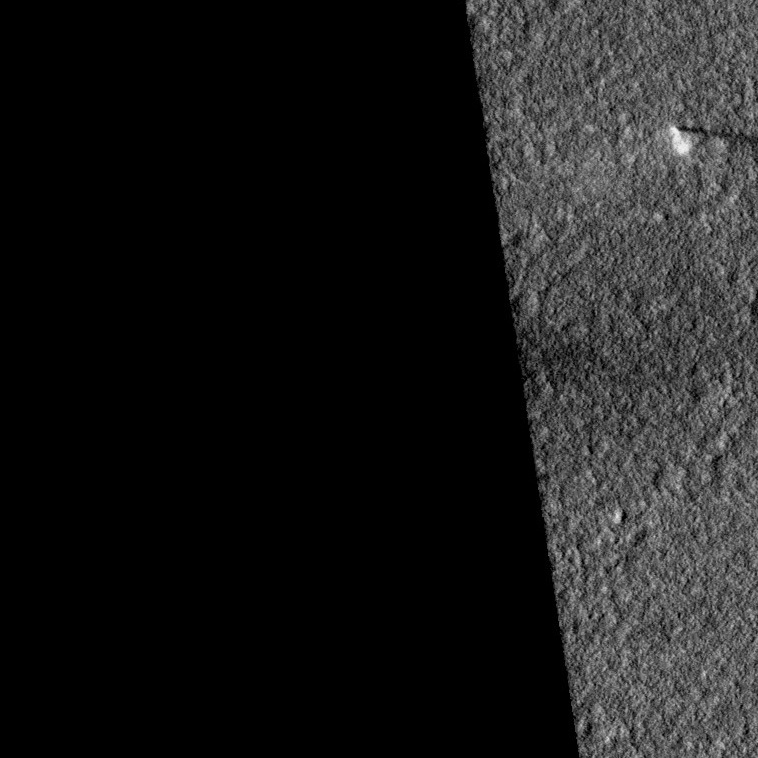dust_devil: (668, 124, 758, 158)
